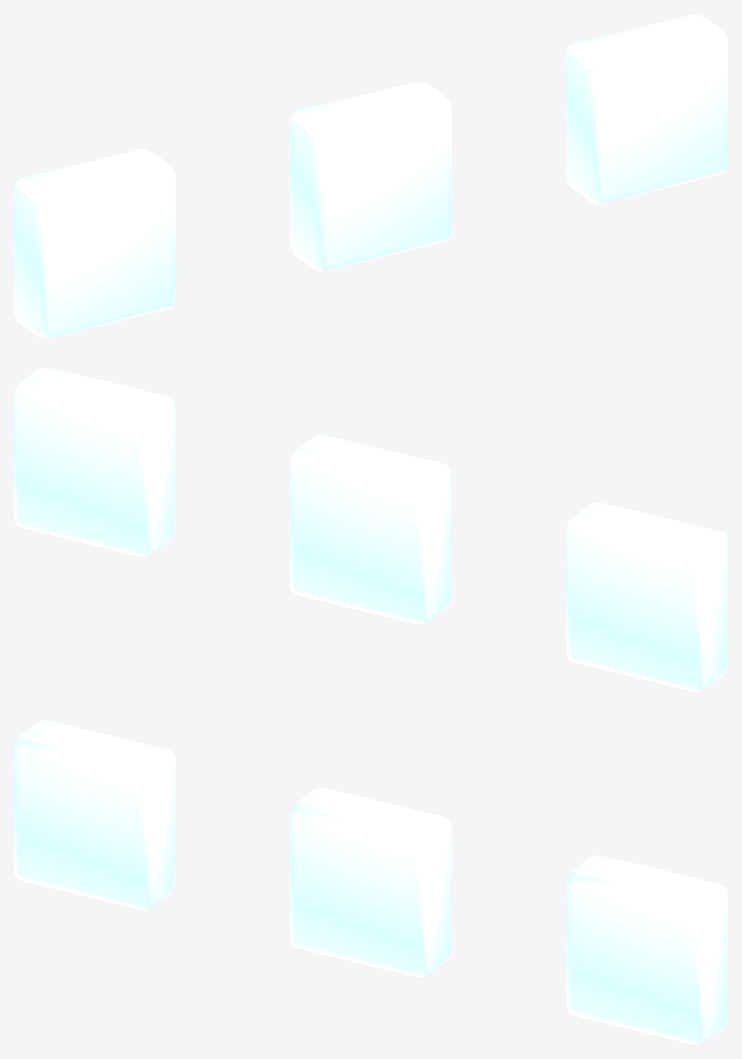
File: MM_DepositDrum__Cyan.fbx
3 renders of one model, top to bottom at view 1: azimuth 30°, elevation 25°; view 2: azimuth 150°, elevation 25°; view 3: azimuth 330°, elevation 25°, orthographic.
Parts seen in each view (by area): view 1: MM_DepositDrum__Cyan; view 2: MM_DepositDrum__Cyan; view 3: MM_DepositDrum__Cyan.
Boxes of the visible parts, left/top/right/bottom form: MM_DepositDrum__Cyan: left=14, top=14, right=727, bottom=338; MM_DepositDrum__Cyan: left=14, top=367, right=727, bottom=691; MM_DepositDrum__Cyan: left=14, top=720, right=727, bottom=1044.
Bounding box in the file's own units: 75 × 15 × 6.
